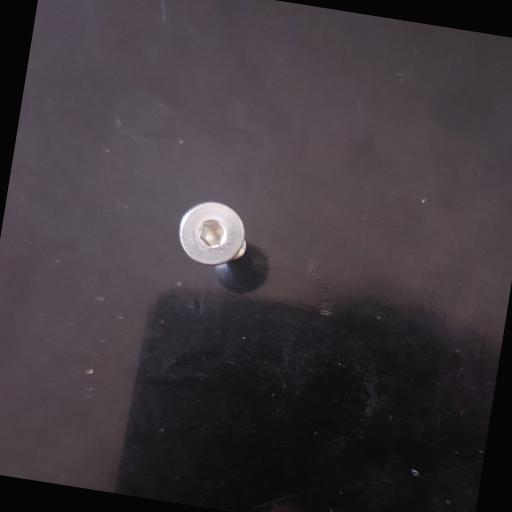Hex-Allen: (173, 192, 250, 270)
